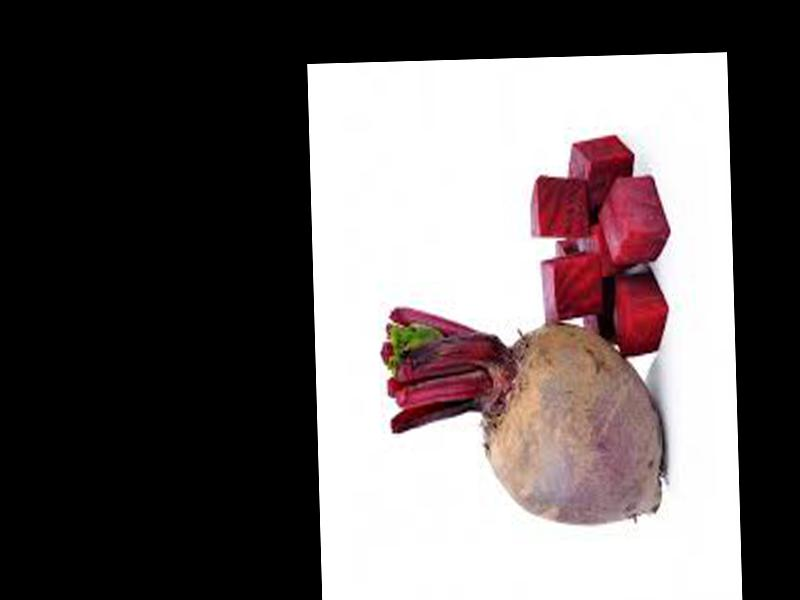Beet: (382, 300, 666, 529)
